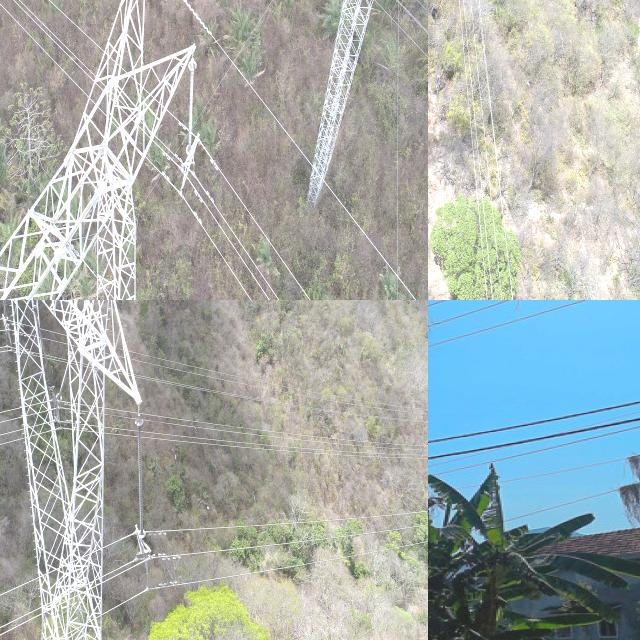杆塔: (0, 0, 201, 300), (0, 300, 160, 640), (290, 0, 428, 213)
植被遮挡: (428, 306, 449, 340), (511, 300, 535, 319)
正常绝缘子: (129, 405, 149, 556), (186, 57, 196, 157)
